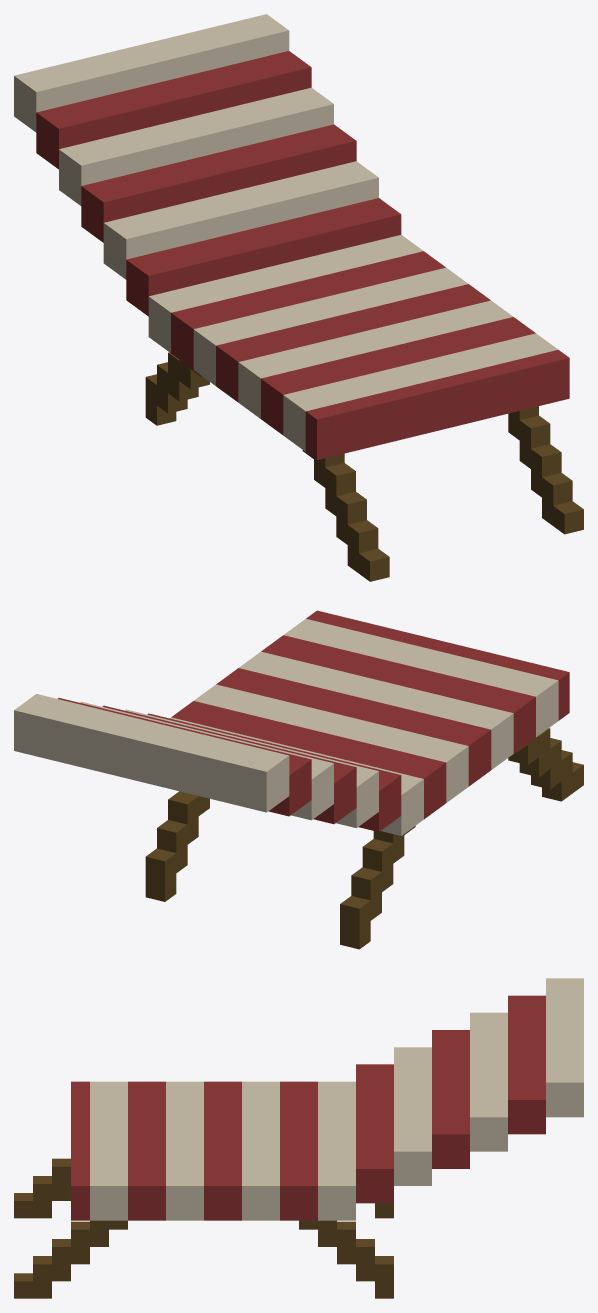
The model's file is Background_C_deco_03.FBX.
3 renders of one model, top to bottom at view 1: azimuth 30°, elevation 25°; view 2: azimuth 150°, elevation 25°; view 3: azimuth 270°, elevation 25°, orthographic. The views are drawn at different scales.
Parts seen in each view (by area): view 1: Background_C-13; view 2: Background_C-13; view 3: Background_C-13.
Part boxes in pixels (x1=…): Background_C-13: x1=14, y1=14, x2=583, y2=581; Background_C-13: x1=14, y1=610, x2=583, y2=949; Background_C-13: x1=14, y1=978, x2=583, y2=1298.
Bounding box in the file's own units: 1.3 × 1.3 × 3.
Materials: 1 (1 with a texture image).
